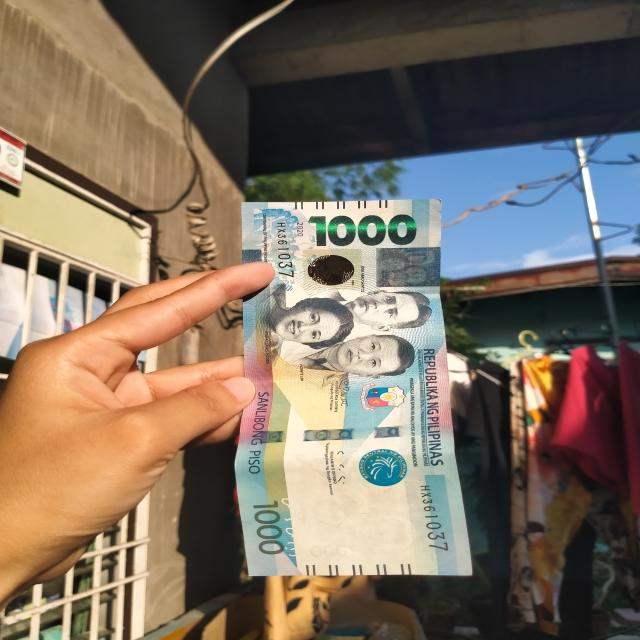concealed_value: (377, 248, 441, 288)
optically_variable_device: (302, 248, 361, 290)
security_thread: (240, 422, 451, 442)
see_through_mark: (277, 496, 304, 561)
value: (307, 213, 421, 247)
value_watermark: (308, 543, 358, 558)
watermark: (298, 471, 440, 548)
